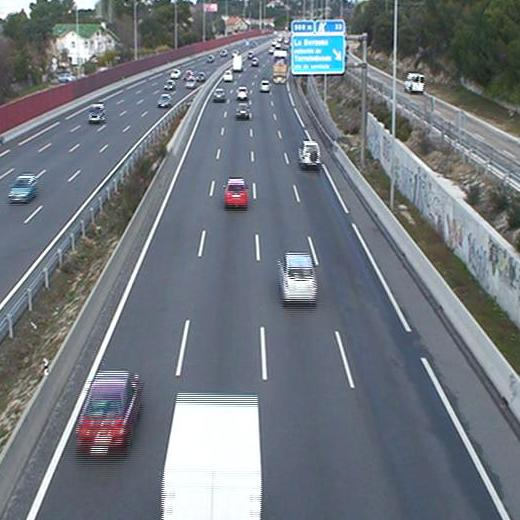car: (78, 377, 136, 444), (280, 253, 318, 303), (224, 179, 248, 207), (299, 141, 319, 169), (212, 88, 226, 103), (237, 103, 250, 119), (237, 85, 247, 99), (260, 80, 271, 92), (224, 70, 233, 82)
truck: (272, 51, 289, 85)
van: (232, 53, 242, 71)
